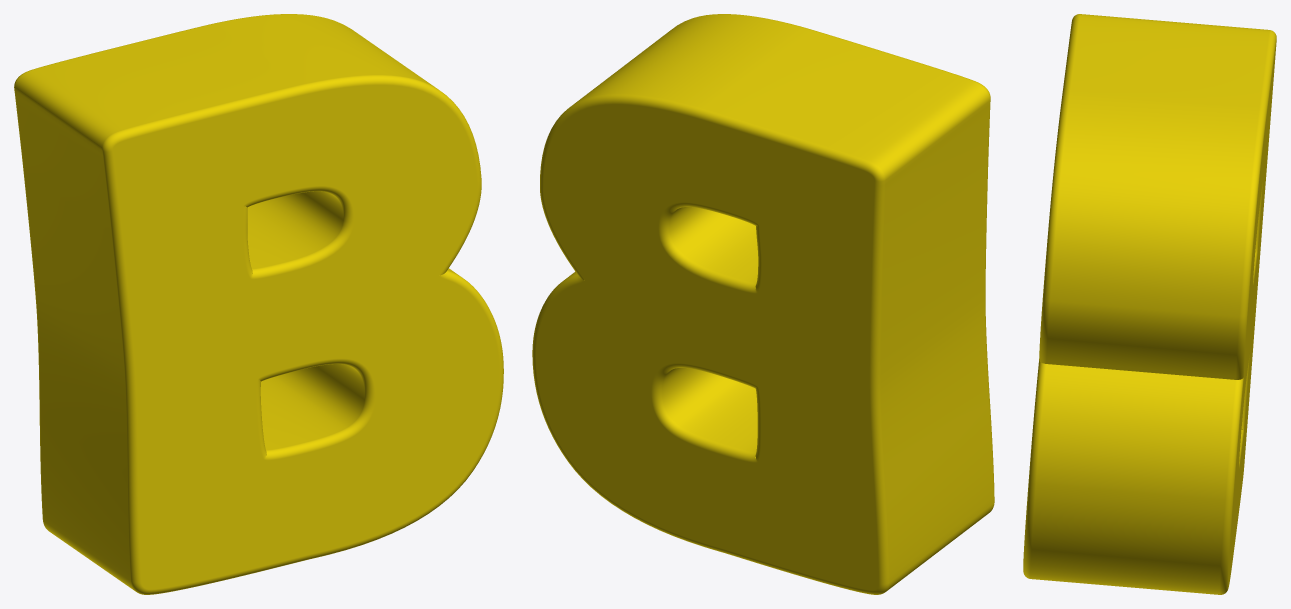
3 renders of one model, left to right at view 1: azimuth 30°, elevation 25°; view 2: azimuth 150°, elevation 25°; view 3: azimuth 270°, elevation 25°, orthographic.
Visible parts, largest first — view 1: B; view 2: B; view 3: B.
Part boxes in pixels (bbox=[...]): B: bbox=[14, 14, 503, 594]; B: bbox=[532, 14, 994, 594]; B: bbox=[1023, 14, 1276, 594].
Size of the model in its own units: 55.72 by 65.24 by 32.08.
